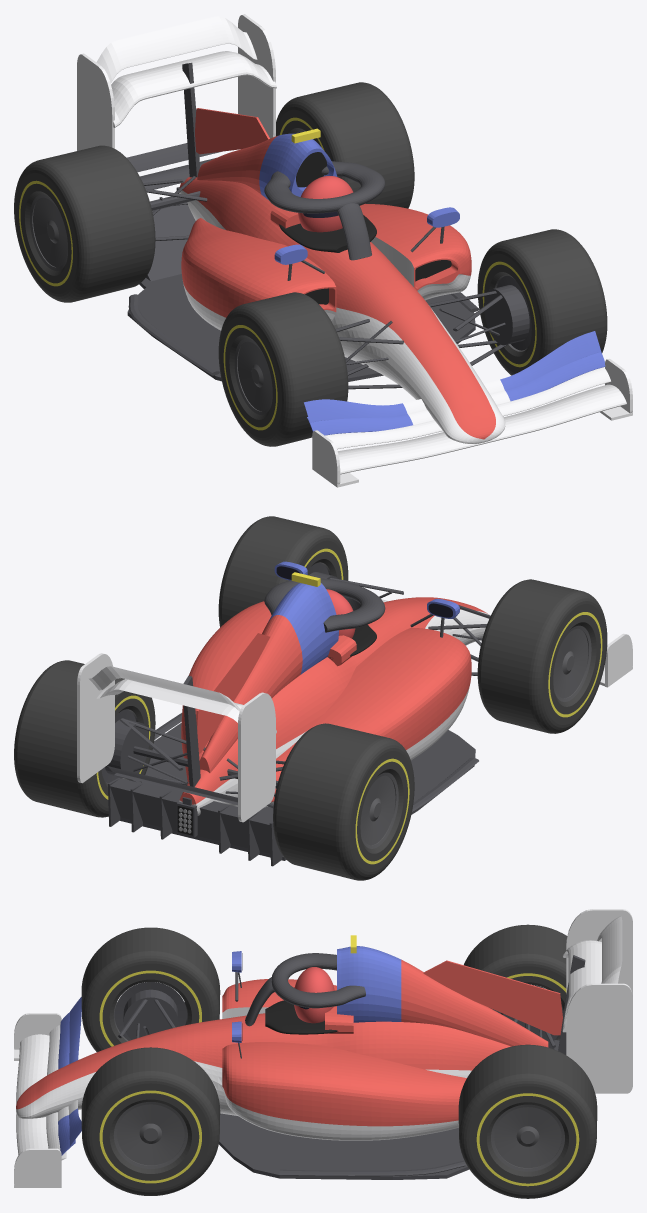
File: race_car_brake_off.glb
3 views of the same model, one above another, from view 1: azimuth 30°, elevation 25°; view 2: azimuth 150°, elevation 25°; view 3: azimuth 270°, elevation 25° (orthographic). The views are drawn at different scales.
Visible parts, largest first — view 1: wheel_RR_tyre, chassis_top, wheel_FR_tyre, wheel_FL_tyre, wheel_RL_tyre, sidepod_top_R, chassis_side, floor, fw_element1, rw_mainplane, rw_flap, sidepod_top_L (+24 smaller); view 2: wheel_RR_tyre, wheel_FR_tyre, sidepod_top_R, wheel_RL_tyre, chassis_top, wheel_FL_tyre, airbox_spine, diffuser, rw_endplate_R, floor, rw_endplate_L, sidepod_top_L (+17 smaller); view 3: sidepod_top_L, wheel_RL_tyre, wheel_FL_tyre, chassis_top, floor, wheel_FR_tyre, rw_endplate_L, airbox_spine, wheel_RR_tyre, shark_fin, airbox_head, wheel_RL_cover (+27 smaller).
Part boxes in pixels (x1,y1,x2,y2): wheel_RR_tyre: [14, 145, 155, 302]; chassis_top: [179, 177, 495, 439]; wheel_FR_tyre: [218, 292, 348, 446]; wheel_FL_tyre: [477, 229, 607, 375]; wheel_RL_tyre: [276, 82, 414, 208]; sidepod_top_R: [181, 218, 335, 317]; chassis_side: [179, 190, 505, 443]; floor: [127, 274, 475, 381]; fw_element1: [337, 384, 626, 474]; rw_mainplane: [111, 51, 276, 127]; rw_flap: [96, 16, 257, 82]; sidepod_top_L: [360, 203, 471, 275]; wheel_RR_tyre: [273, 723, 414, 880]; wheel_FR_tyre: [477, 579, 607, 733]; sidepod_top_R: [271, 628, 471, 802]; wheel_RL_tyre: [14, 660, 155, 817]; chassis_top: [179, 597, 487, 804]; wheel_FL_tyre: [218, 516, 348, 627]; airbox_spine: [199, 615, 302, 772]; diffuser: [109, 778, 272, 853]; rw_endplate_R: [238, 692, 275, 822]; floor: [120, 723, 475, 860]; rw_endplate_L: [77, 653, 114, 783]; sidepod_top_L: [181, 601, 271, 781]; sidepod_top_L: [222, 1042, 466, 1126]; wheel_RL_tyre: [458, 1044, 597, 1198]; wheel_FL_tyre: [81, 1047, 220, 1195]; chassis_top: [16, 1013, 510, 1109]; floor: [219, 1113, 469, 1179]; wheel_FR_tyre: [81, 927, 220, 1051]; rw_endplate_L: [566, 983, 632, 1093]; airbox_spine: [401, 959, 548, 1047]; wheel_RR_tyre: [464, 924, 567, 1039]; shark_fin: [423, 960, 562, 1035]; airbox_head: [337, 946, 401, 1022]; wheel_RL_cover: [494, 1107, 561, 1167].
Size of the model in its own units: 2.29 by 1.26 by 3.84.
